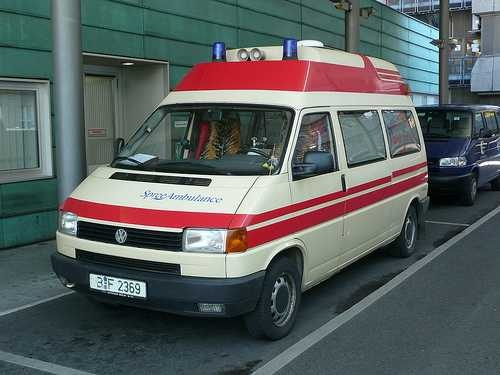Ambulance: (63, 34, 441, 341)
